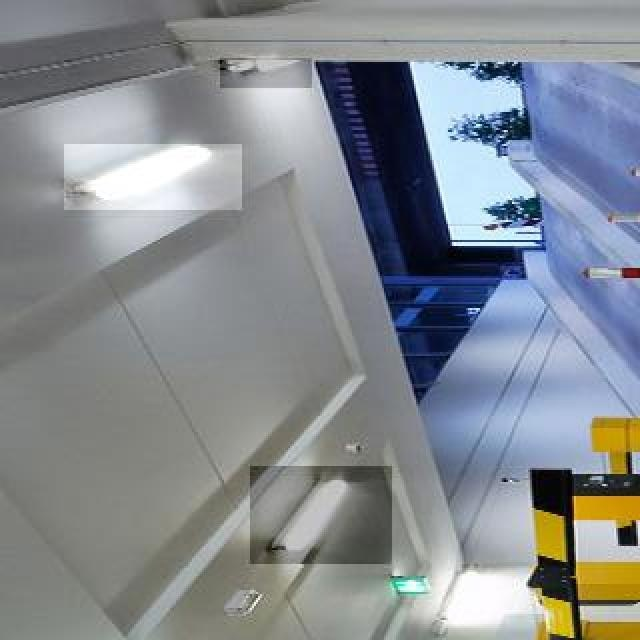fluorescent tube: (64, 146, 244, 209), (255, 471, 365, 554)
